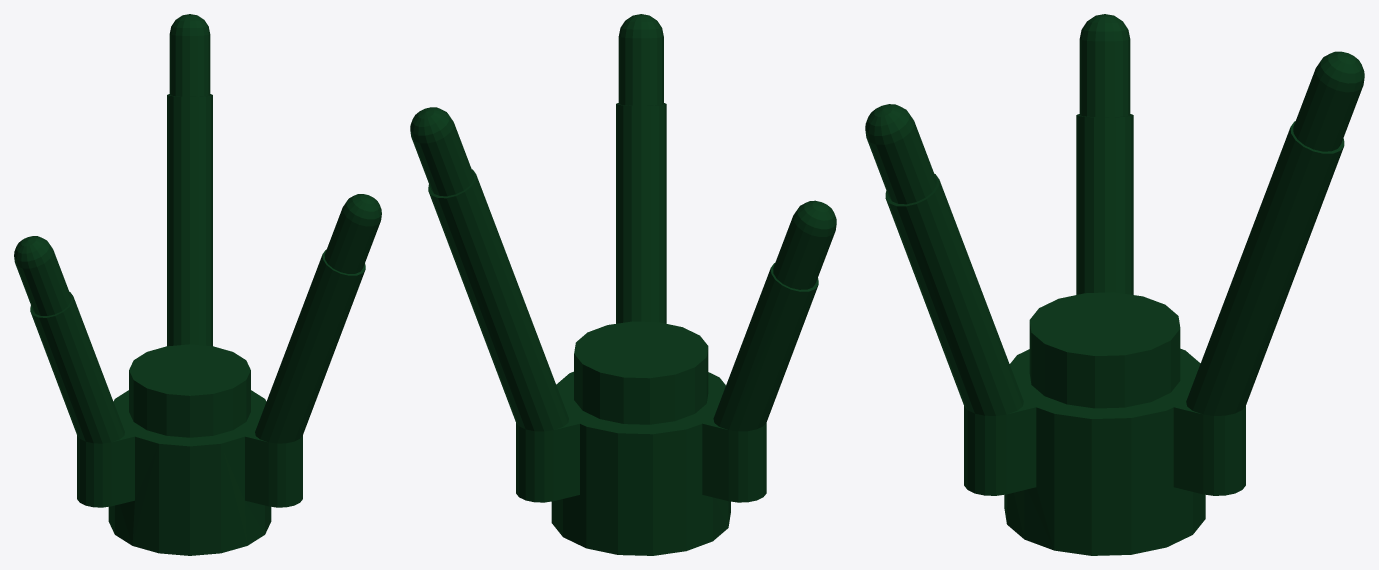
Rendered from grass.fbx.
The picture shows the model from 3 angles, left to right: view 1: azimuth 30°, elevation 25°; view 2: azimuth 150°, elevation 25°; view 3: azimuth 270°, elevation 25°; orthographic projection. The views are drawn at different scales.
Parts seen in each view (by area): view 1: Gras.006; view 2: Gras.006; view 3: Gras.006.
Boxes of the visible parts, x1,y1,x2,y2 form: Gras.006: (14,14,381,555); Gras.006: (410,14,836,555); Gras.006: (865,14,1364,555).
Bounding box in the file's own units: 64.72 × 89.93 × 78.72.
